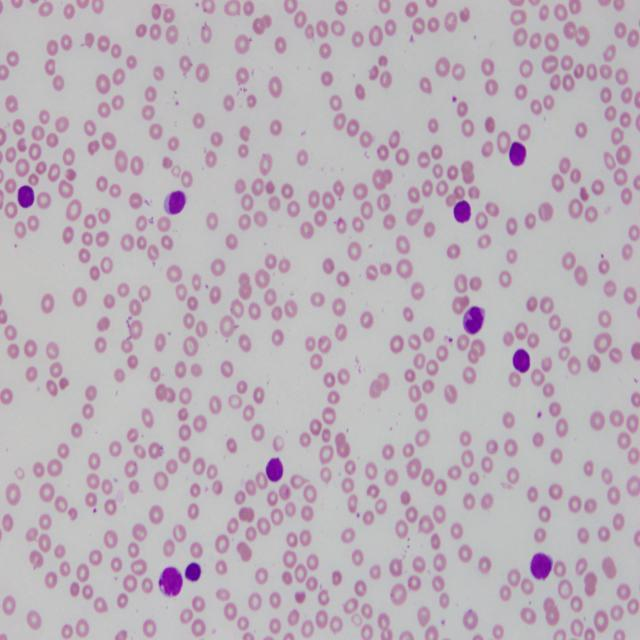cell: (463, 305, 486, 336), (159, 567, 182, 597), (530, 553, 552, 580), (164, 190, 186, 215), (266, 458, 284, 482), (512, 348, 530, 372), (509, 142, 526, 167), (18, 185, 35, 208), (454, 200, 471, 223), (185, 563, 201, 582)
